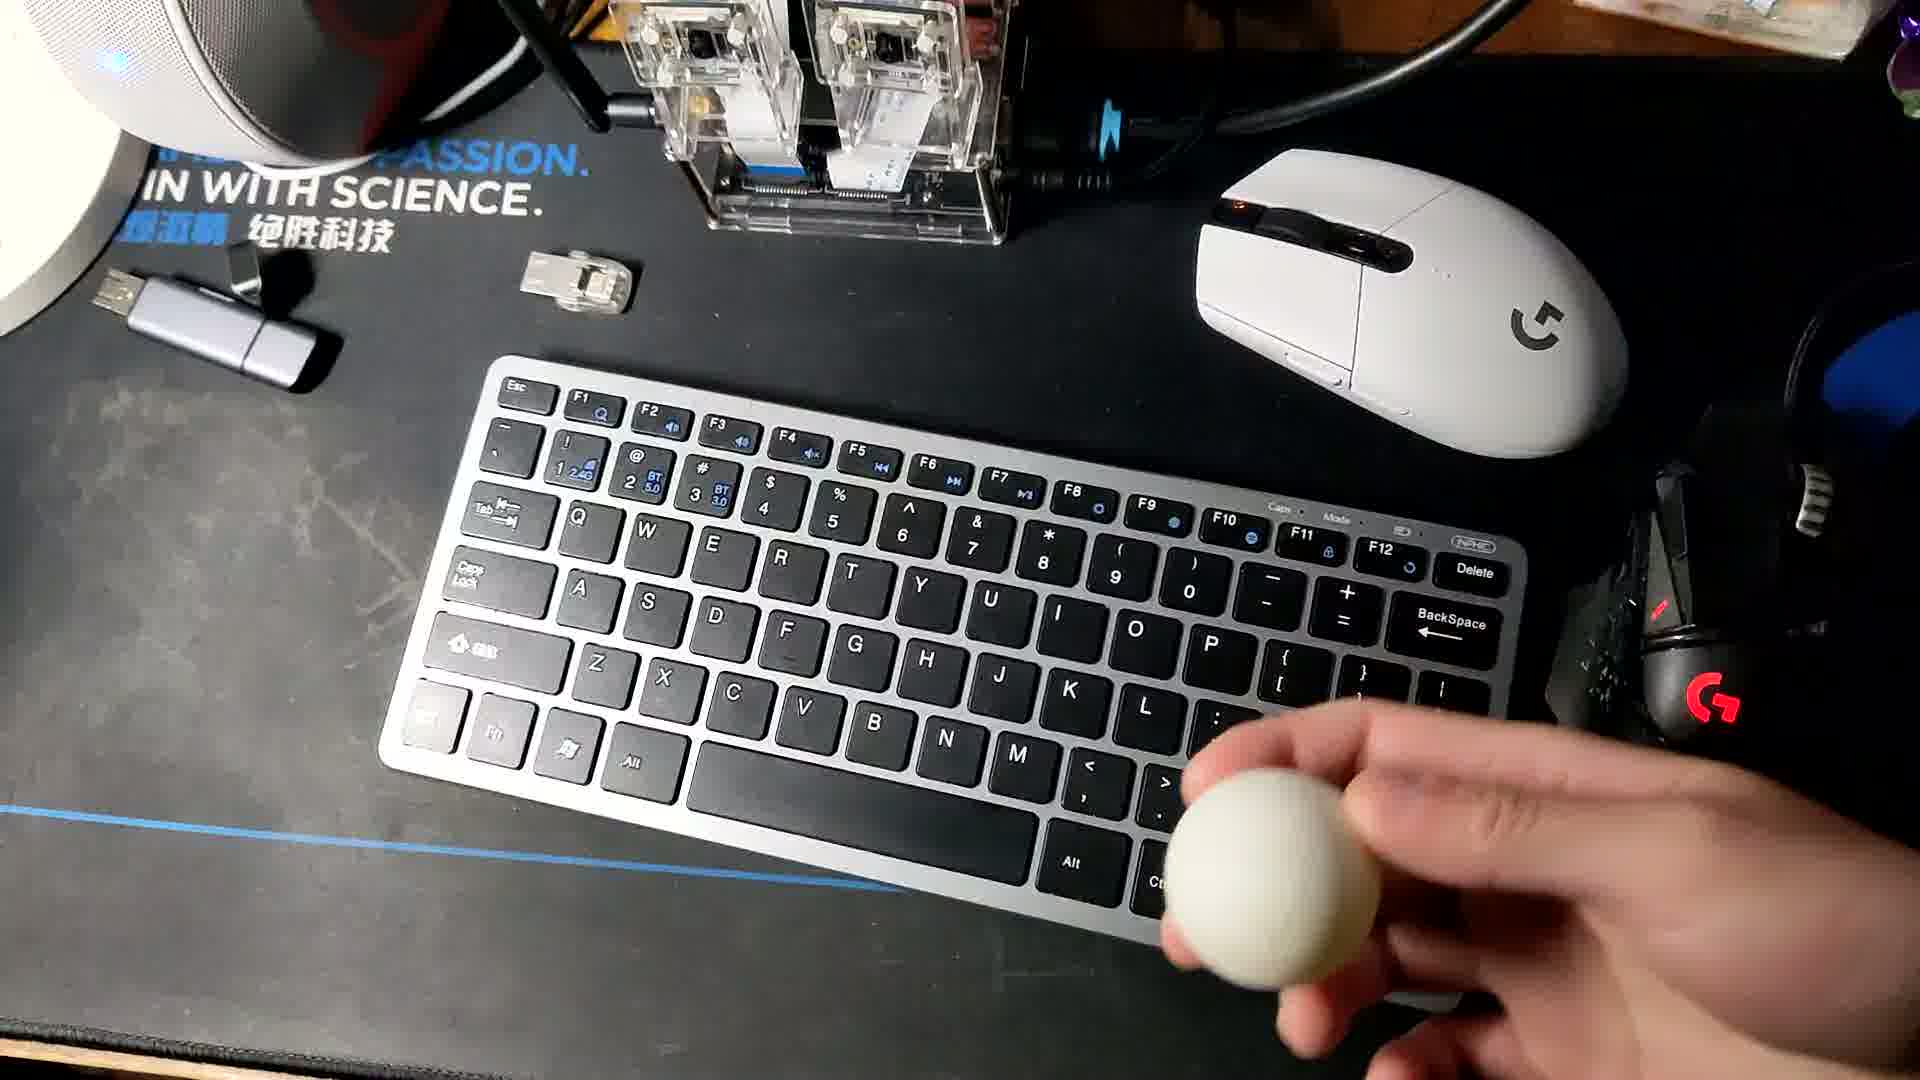Ball: (1167, 771, 1361, 986)
